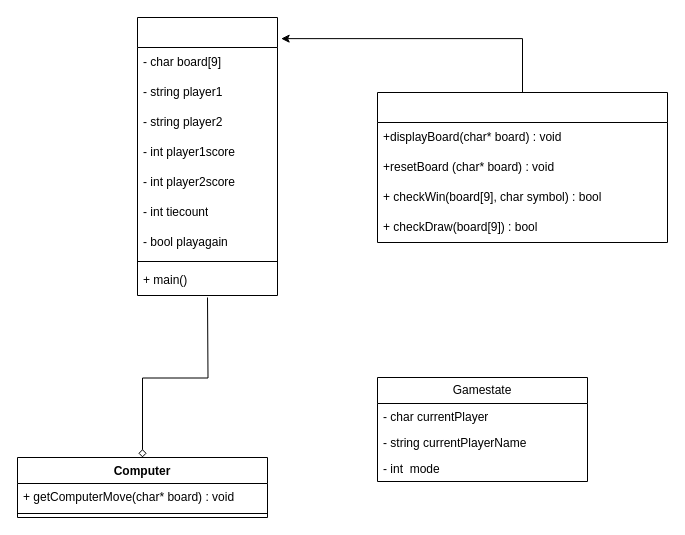
The diagram is 685 pixels wide and 535 high, and some of its shapes have lost their labels. The box of each missing label's shape, as (x1, y1, x2, y2) in pixels:
BoardOperation: (376, 92, 668, 242)
TicTacToe: (136, 16, 278, 296)
